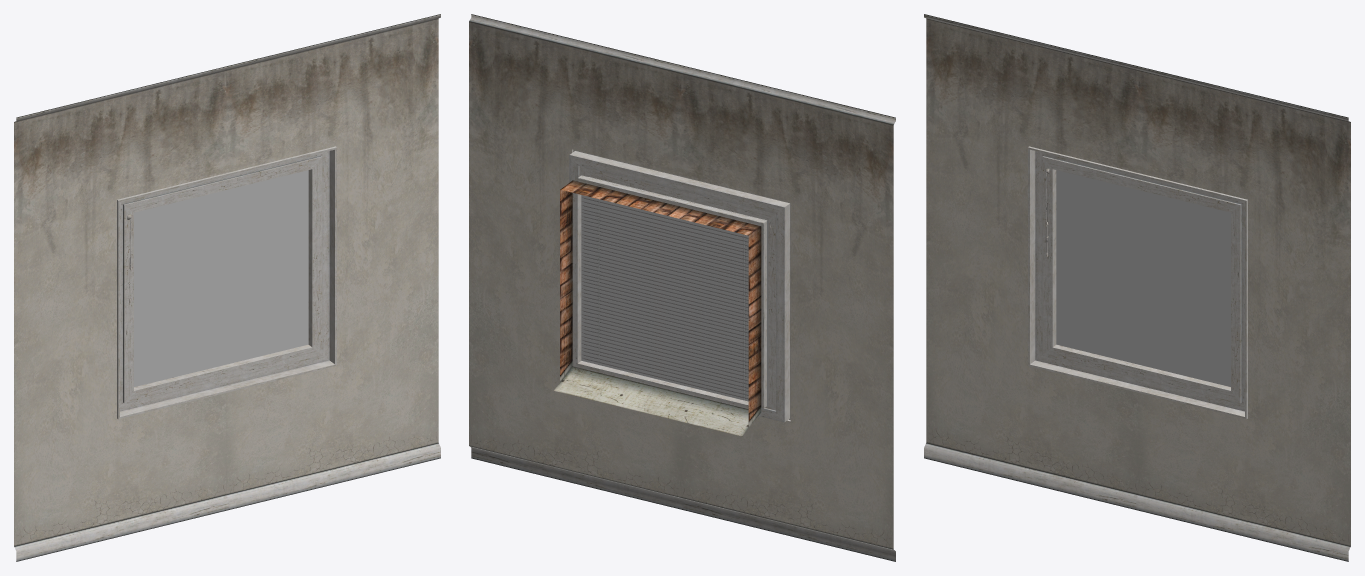
File: livingroom_damaged_flat_window.dae
3 views of the same model, side by side, from view 1: azimuth 30°, elevation 25°; view 2: azimuth 150°, elevation 25°; view 3: azimuth 330°, elevation 25° (orthographic).
Parts seen in each view (by area): view 1: window, pPlane13; view 2: window, pPlane13, polySurface139; view 3: window, pPlane13.
Part boxes in pixels (left/top/right/bottom): window: left=14, top=14, right=440, bottom=561; pPlane13: left=134, top=170, right=308, bottom=386; window: left=469, top=14, right=895, bottom=561; pPlane13: left=580, top=175, right=768, bottom=406; polySurface139: left=581, top=197, right=748, bottom=400; window: left=924, top=14, right=1350, bottom=561; pPlane13: left=1056, top=170, right=1230, bottom=386.
Bounding box in the file's own units: 4 × 4 × 0.5829.
